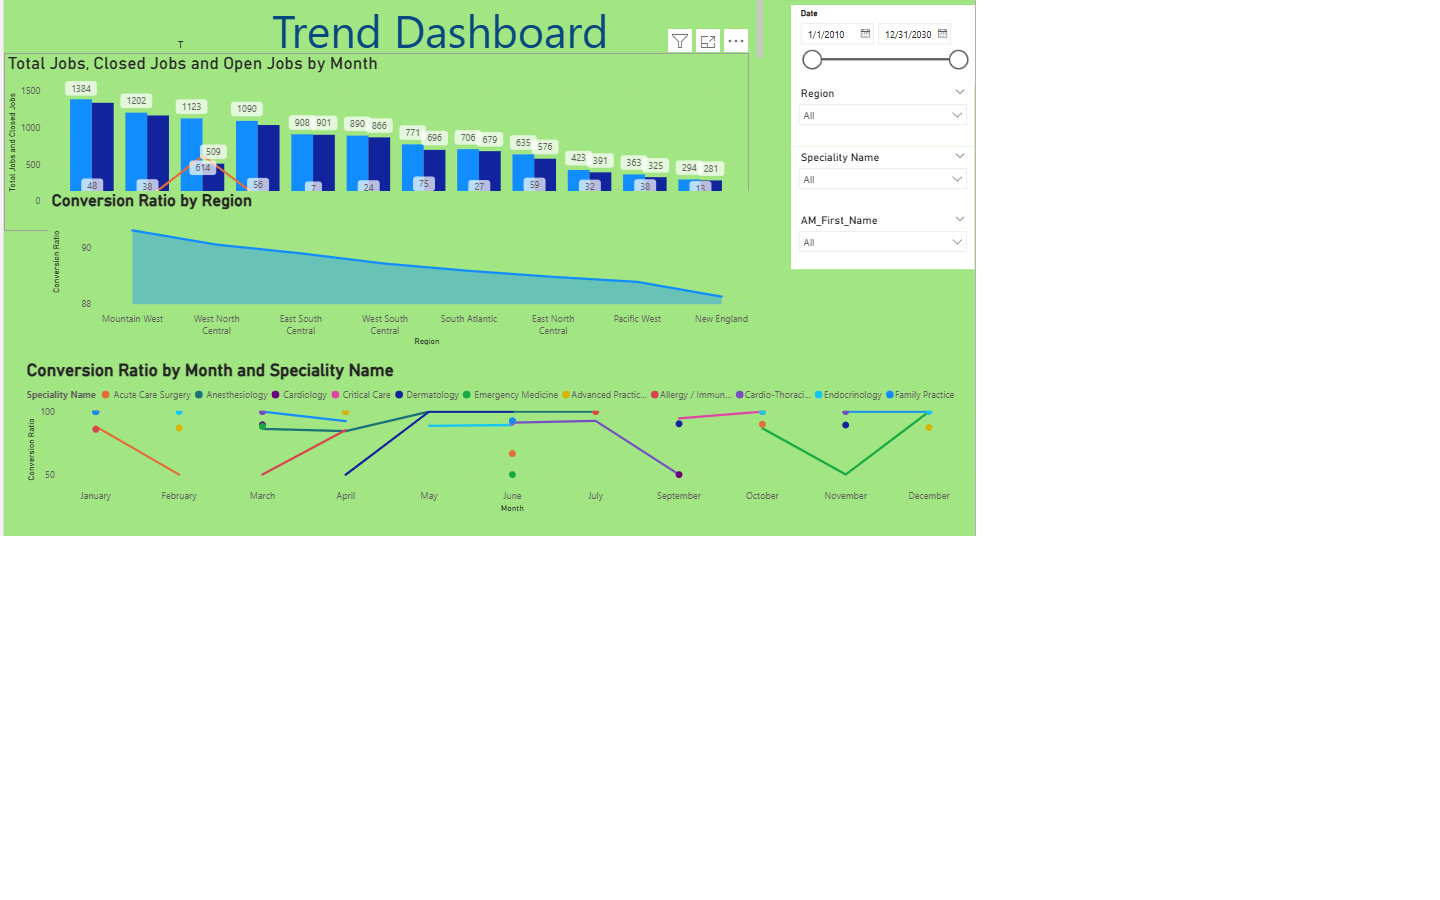

Layout of this report page (visuals, bound fields, positions):
{"tool":"powerbi","page":{"name":"Page 3","canvas":[1280,720],"ordinal":2},"visuals":[{"type":"textbox","box":[223.5,0,780.9,87.3],"z":0},{"type":"lineClusteredColumnComboChart","fields":{"Category":["CalendarTable.Month"],"Y":["Measure.Total Jobs","Measure.Closed Jobs"],"Y2":["Measure.Open Jobs"]},"box":[0,75,981.4,234.3],"z":1000},{"type":"areaChart","fields":{"Category":["Region.Region"],"Y":["Measure.Conversion Ratio"]},"box":[58.2,257.2,946.2,208.2],"z":2000},{"type":"lineChart","fields":{"Category":["Account Mangaer.Termination_Dt.Variation.Date Hierarchy.Month"],"Y":["Measure.Conversion Ratio"],"Series":["Speciality.Speciality Name"]},"box":[24.5,479.2,1243.3,206.7],"z":3000},{"type":"slicer","fields":{"Values":["CalendarTable.Date"]},"box":[1037.5,12.3,242.5,102.8],"z":4000},{"type":"slicer","fields":{"Values":["State.Region"]},"box":[1038.1,114.8,241.9,84.2],"z":5000},{"type":"slicer","fields":{"Values":["Speciality.Speciality Name"]},"box":[1038.1,199,241.9,82.7],"z":6000},{"type":"slicer","fields":{"Values":["Account Mangaer.AM_First_Name"]},"box":[1038.1,281.7,241.9,78.1],"z":7000}]}

Visuals, with their boxes on the page's 1280x720 design canvas (x1, y1, x2, y2). These are canvas units, not pixel positions in the 1440x900 screenshot, which may show the page scaled, cropped or inside an application window:
textbox: [224, 0, 1004, 87]
lineClusteredColumnComboChart - CalendarTable.Month x Measure.Total Jobs: [0, 75, 981, 309]
areaChart - Region.Region x Measure.Conversion Ratio: [58, 257, 1004, 465]
lineChart - Account Mangaer.Termination_Dt.Variation.Date Hierarchy.Month x Measure.Conversion Ratio: [24, 479, 1268, 686]
slicer - CalendarTable.Date: [1038, 12, 1280, 115]
slicer - State.Region: [1038, 115, 1280, 199]
slicer - Speciality.Speciality Name: [1038, 199, 1280, 282]
slicer - Account Mangaer.AM_First_Name: [1038, 282, 1280, 360]
